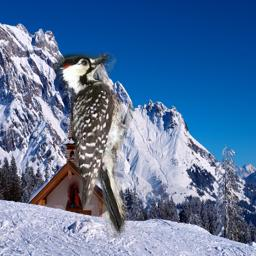Woodpecker: (50, 52, 139, 238)
